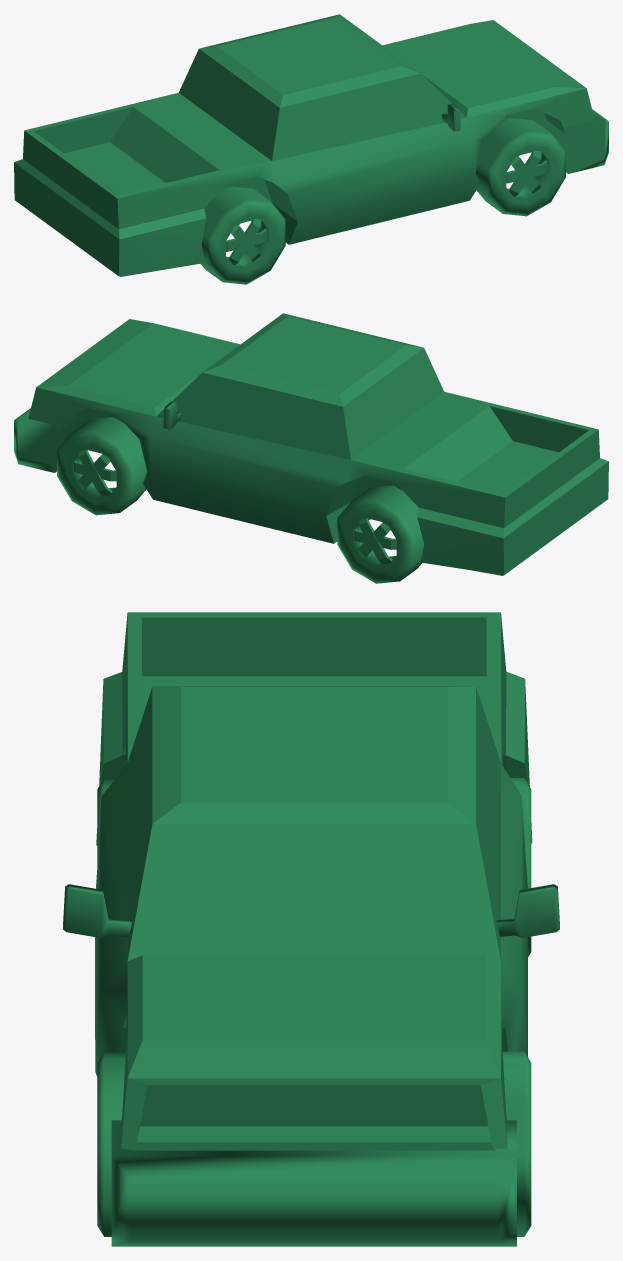
The model's file is broken_pickup.fbx.
The picture shows the model from 3 angles, top to bottom: view 1: azimuth 30°, elevation 25°; view 2: azimuth 150°, elevation 25°; view 3: azimuth 270°, elevation 25°; orthographic projection. The views are drawn at different scales.
Visible parts, largest first — view 1: polySurface58; view 2: polySurface58; view 3: polySurface58.
Part boxes in pixels (x1,y1,x2,y2): polySurface58: (14, 14, 608, 284); polySurface58: (14, 313, 608, 583); polySurface58: (63, 612, 559, 1246).
Bounding box in the file's own units: 5.58 × 1.74 × 2.42.
